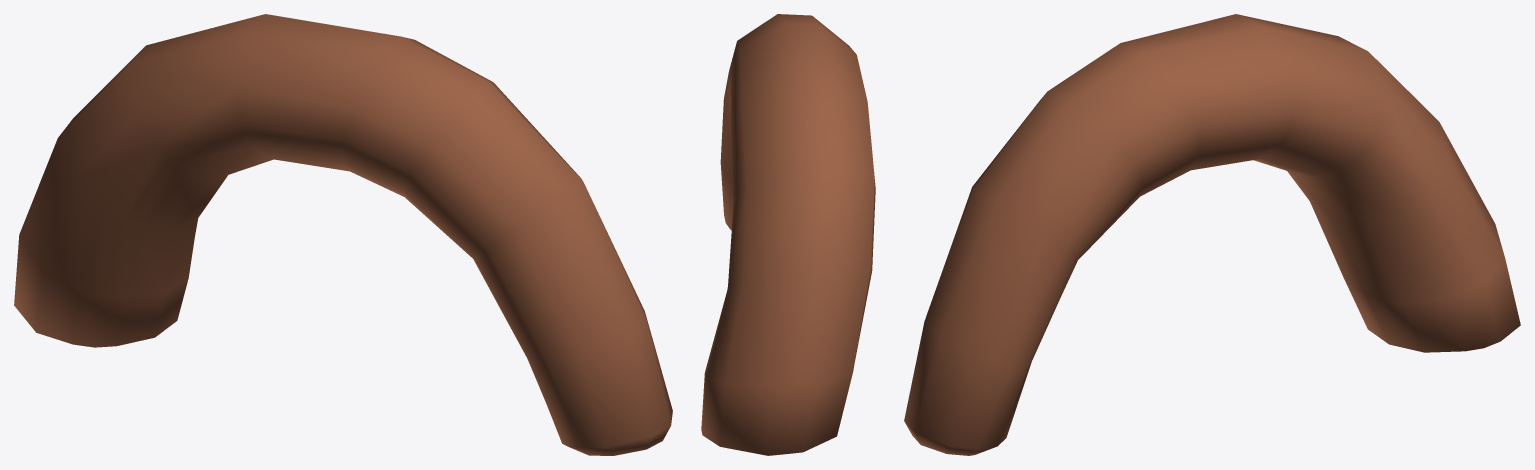
3 views of the same model, side by side, from view 1: azimuth 30°, elevation 25°; view 2: azimuth 150°, elevation 25°; view 3: azimuth 270°, elevation 25° (orthographic). The views are drawn at different scales.
Parts seen in each view (by area): view 1: Root_01_LOD2_Cylinder.603; view 2: Root_01_LOD2_Cylinder.603; view 3: Root_01_LOD2_Cylinder.603.
Part boxes in pixels (left/top/right/bottom): Root_01_LOD2_Cylinder.603: left=14, top=14, right=672, bottom=455; Root_01_LOD2_Cylinder.603: left=701, top=14, right=875, bottom=455; Root_01_LOD2_Cylinder.603: left=904, top=14, right=1520, bottom=455.
Bounding box in the file's own units: 3.18 × 2.88 × 4.67.
Materials: 1 (1 with a texture image).
